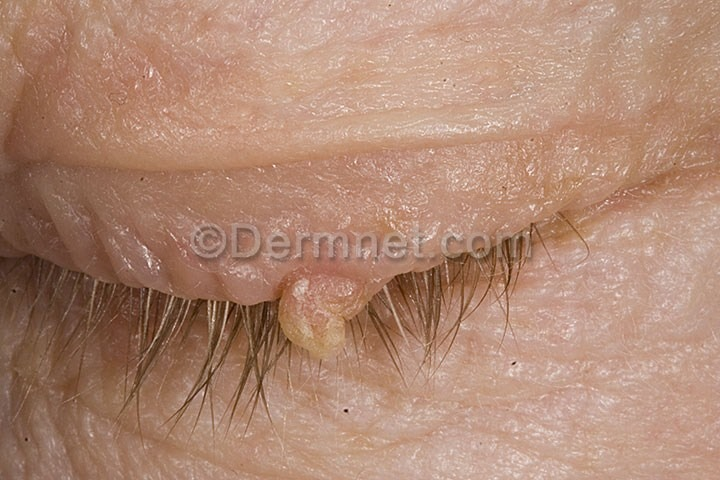Warts: (265, 262, 382, 369)
